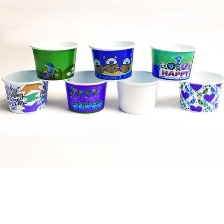paper_cup: (0, 64, 52, 118), (26, 32, 80, 83), (111, 66, 163, 118), (174, 66, 224, 118), (85, 34, 138, 83), (61, 66, 110, 116), (146, 38, 197, 83)
